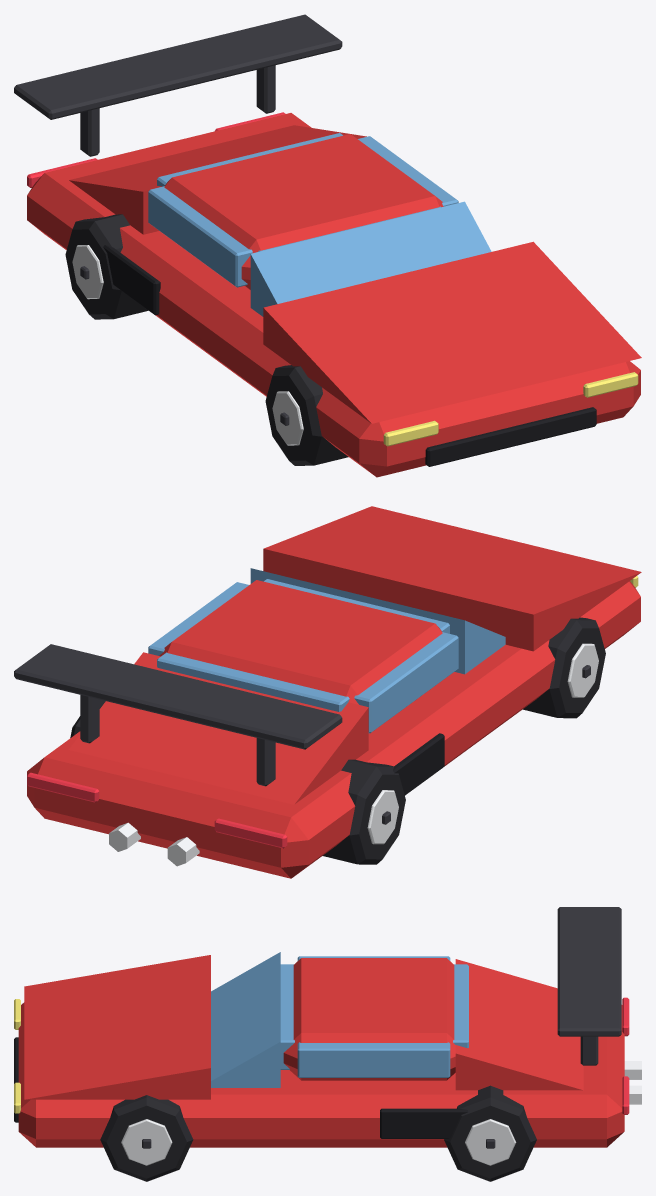
File: RedSupercar.fbx
3 renders of one model, top to bottom at view 1: azimuth 30°, elevation 25°; view 2: azimuth 150°, elevation 25°; view 3: azimuth 270°, elevation 25°, orthographic. The views are drawn at different scales.
Visible parts, largest first — view 1: RedSupercar, RedSupercar_WheelBR, RedSupercar_WheelFR; view 2: RedSupercar, RedSupercar_WheelBR, RedSupercar_WheelFR; view 3: RedSupercar, RedSupercar_WheelBL, RedSupercar_WheelFL.
Boxes of the visible parts, x1=… form: RedSupercar: x1=14, y1=14, x2=641, y2=477; RedSupercar_WheelBR: x1=65, y1=214, x2=148, y2=319; RedSupercar_WheelFR: x1=265, y1=365, x2=348, y2=465; RedSupercar: x1=14, y1=506, x2=641, y2=878; RedSupercar_WheelBR: x1=323, y1=759, x2=405, y2=864; RedSupercar_WheelFR: x1=523, y1=617, x2=605, y2=718; RedSupercar: x1=14, y1=907, x2=641, y2=1147; RedSupercar_WheelBL: x1=444, y1=1085, x2=536, y2=1181; RedSupercar_WheelFL: x1=100, y1=1095, x2=193, y2=1181.
Size of the model in its own units: 5.22 by 2.94 by 10.78.
1 material, 1 textured.
